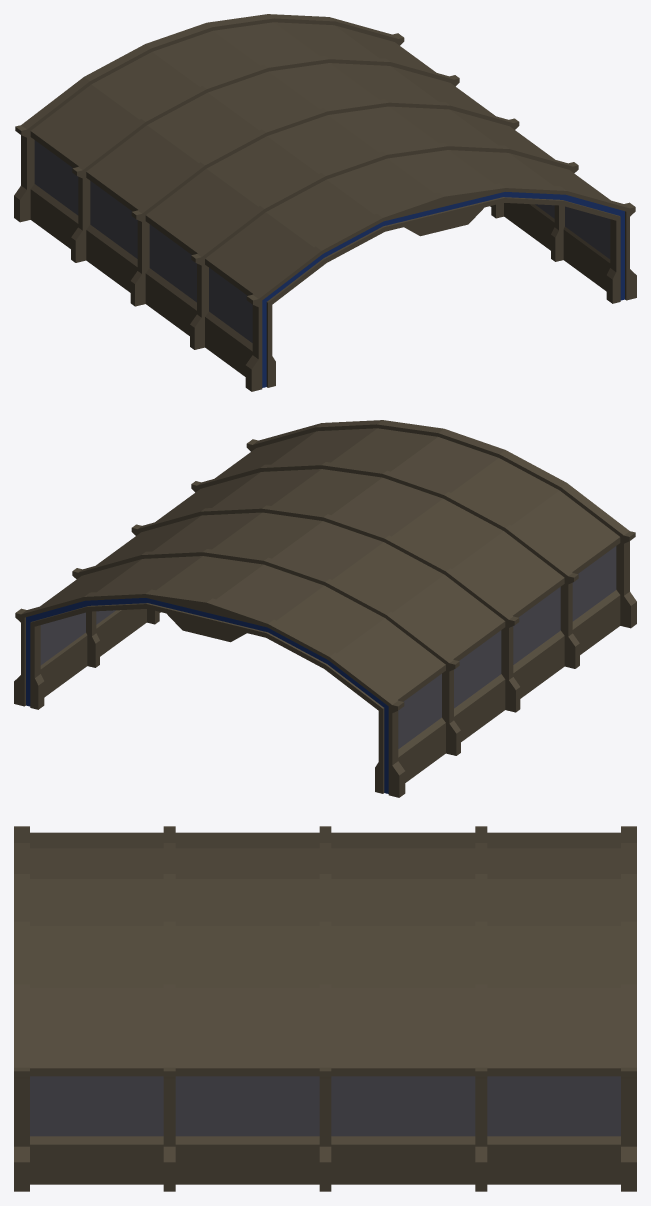
File: LPSciFiCharacter_HangerA.fbx
3 renders of one model, top to bottom at view 1: azimuth 30°, elevation 25°; view 2: azimuth 150°, elevation 25°; view 3: azimuth 270°, elevation 25°, orthographic. The views are drawn at different scales.
Parts seen in each view (by area): view 1: HangerA; view 2: HangerA; view 3: HangerA.
Boxes of the visible parts, left/top/right/bottom form: HangerA: left=14, top=14, right=636, bottom=391; HangerA: left=14, top=420, right=636, bottom=797; HangerA: left=14, top=826, right=636, bottom=1191.
Size of the model in its own units: 1539 by 566 by 1644.
